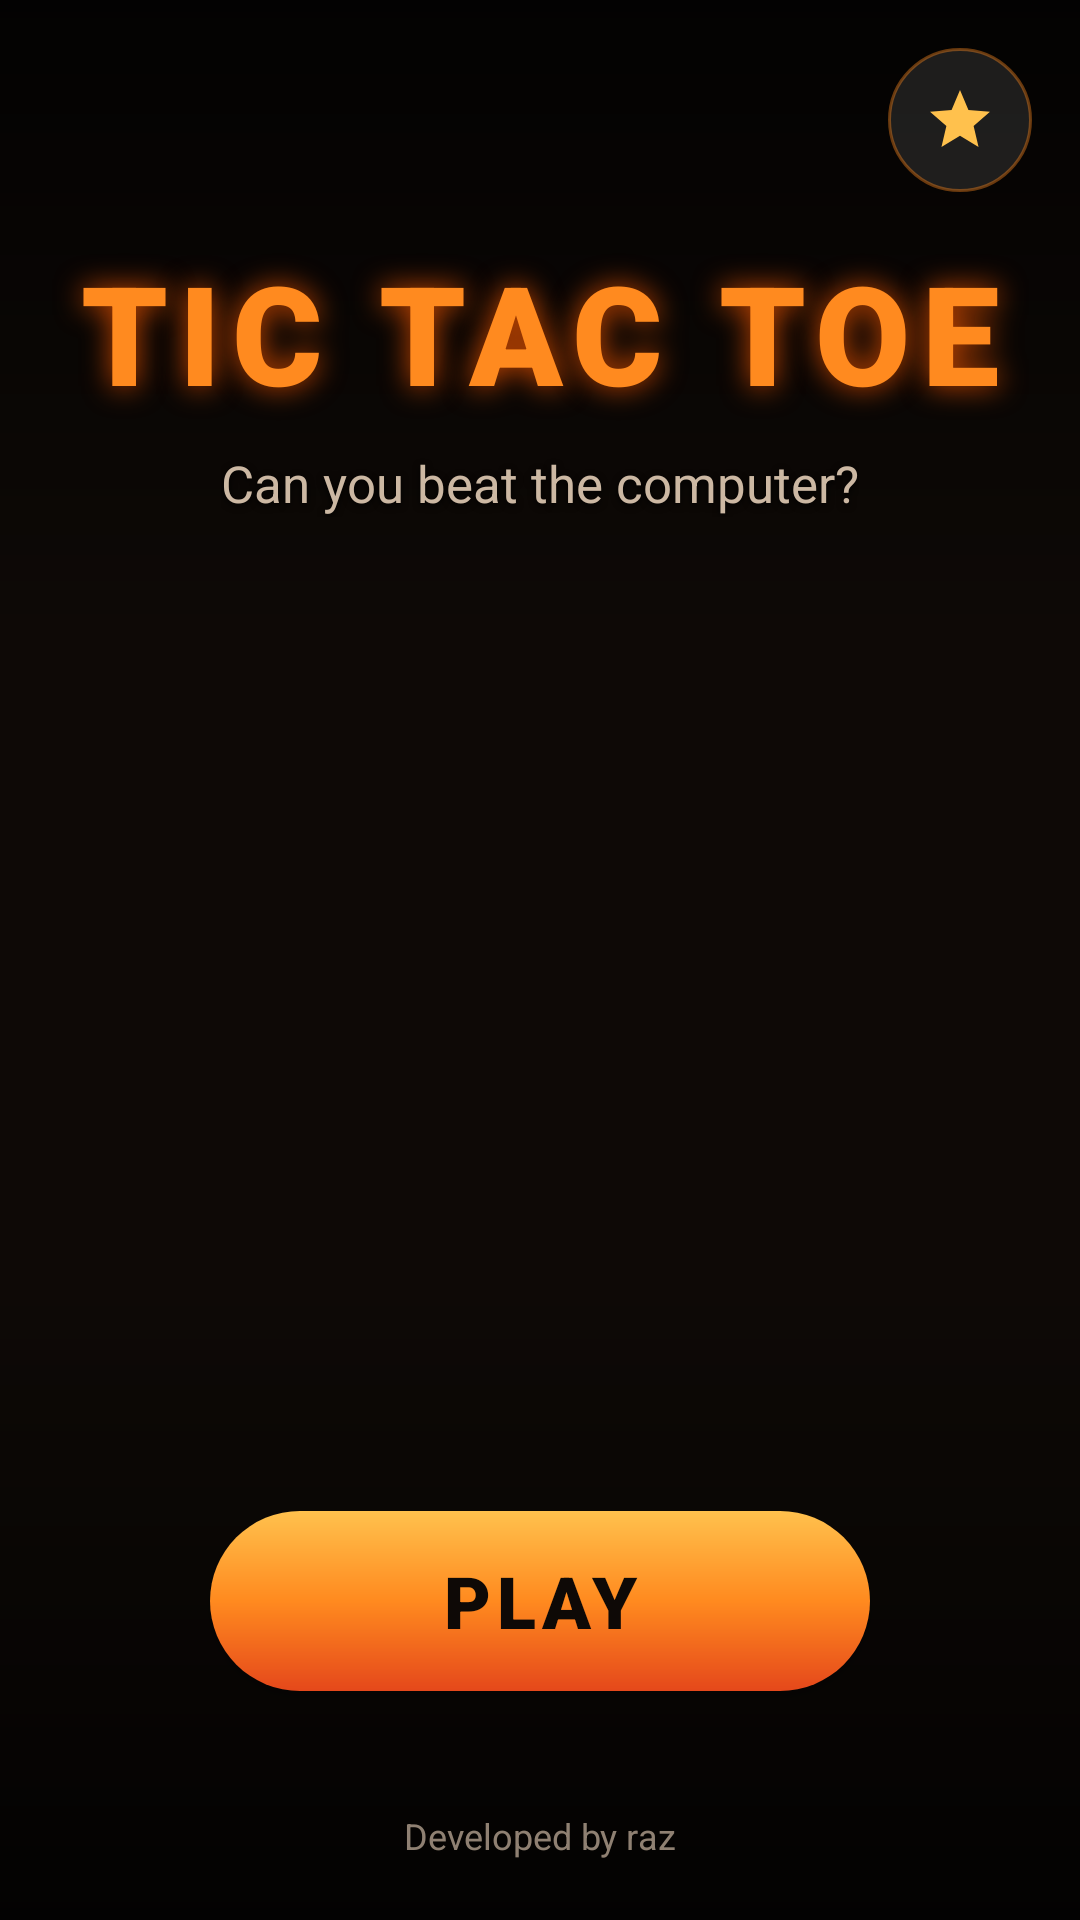

Icons on this 1080 × 1920 Android screen, each with the point to tap as point (x, y):
Rate the app: point (960, 120)
